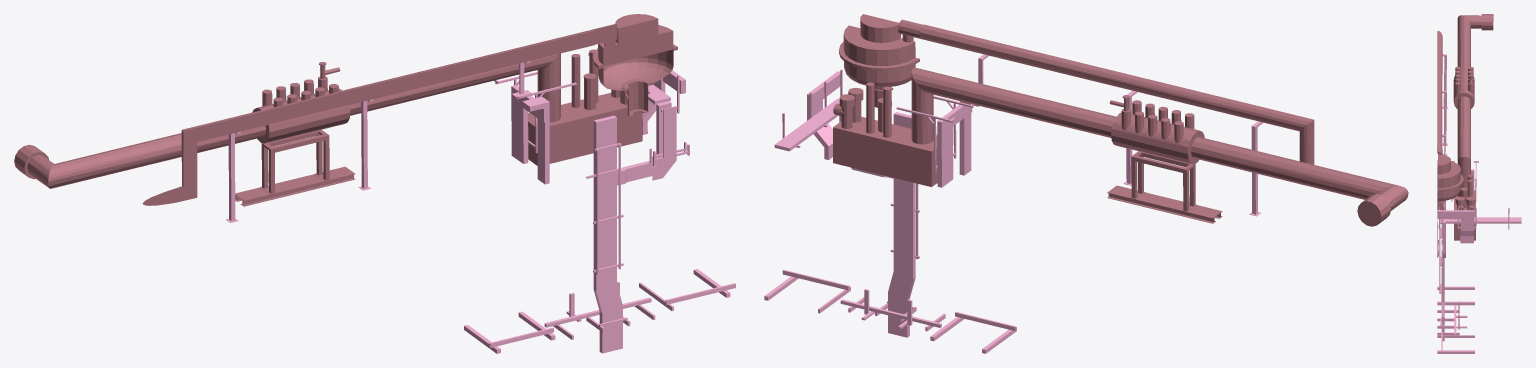
File: Serv-Z0-Sec5-cut1.glb
The picture shows the model from 3 angles, left to right: view 1: azimuth 30°, elevation 25°; view 2: azimuth 150°, elevation 25°; view 3: azimuth 270°, elevation 25°; orthographic projection. The views are drawn at different scales.
Visible parts, largest first — view 1: Serv-Z0-Vent-cut1, Serv-Z0-Sec5-cut1, Serv-Z0-Sec5-Frames-cut1; view 2: Serv-Z0-Vent-cut1, Serv-Z0-Sec5-cut1, Serv-Z0-Sec5-Frames-cut1; view 3: Serv-Z0-Vent-cut1, Serv-Z0-Sec5-Frames-cut1, Serv-Z0-Sec5-cut1.
Boxes of the visible parts, x1,y1,x2,y2 form: Serv-Z0-Vent-cut1: (14, 14, 677, 206); Serv-Z0-Sec5-cut1: (511, 53, 685, 353); Serv-Z0-Sec5-Frames-cut1: (226, 61, 735, 353); Serv-Z0-Vent-cut1: (833, 14, 1408, 226); Serv-Z0-Sec5-cut1: (774, 71, 978, 337); Serv-Z0-Sec5-Frames-cut1: (764, 54, 1262, 353); Serv-Z0-Vent-cut1: (1437, 14, 1493, 240); Serv-Z0-Sec5-Frames-cut1: (1437, 54, 1509, 353); Serv-Z0-Sec5-cut1: (1437, 162, 1521, 341).
Bounding box in the file's own units: 17.04 × 8.03 × 3.23.
